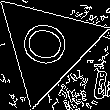O_E: (17, 19, 77, 73)
